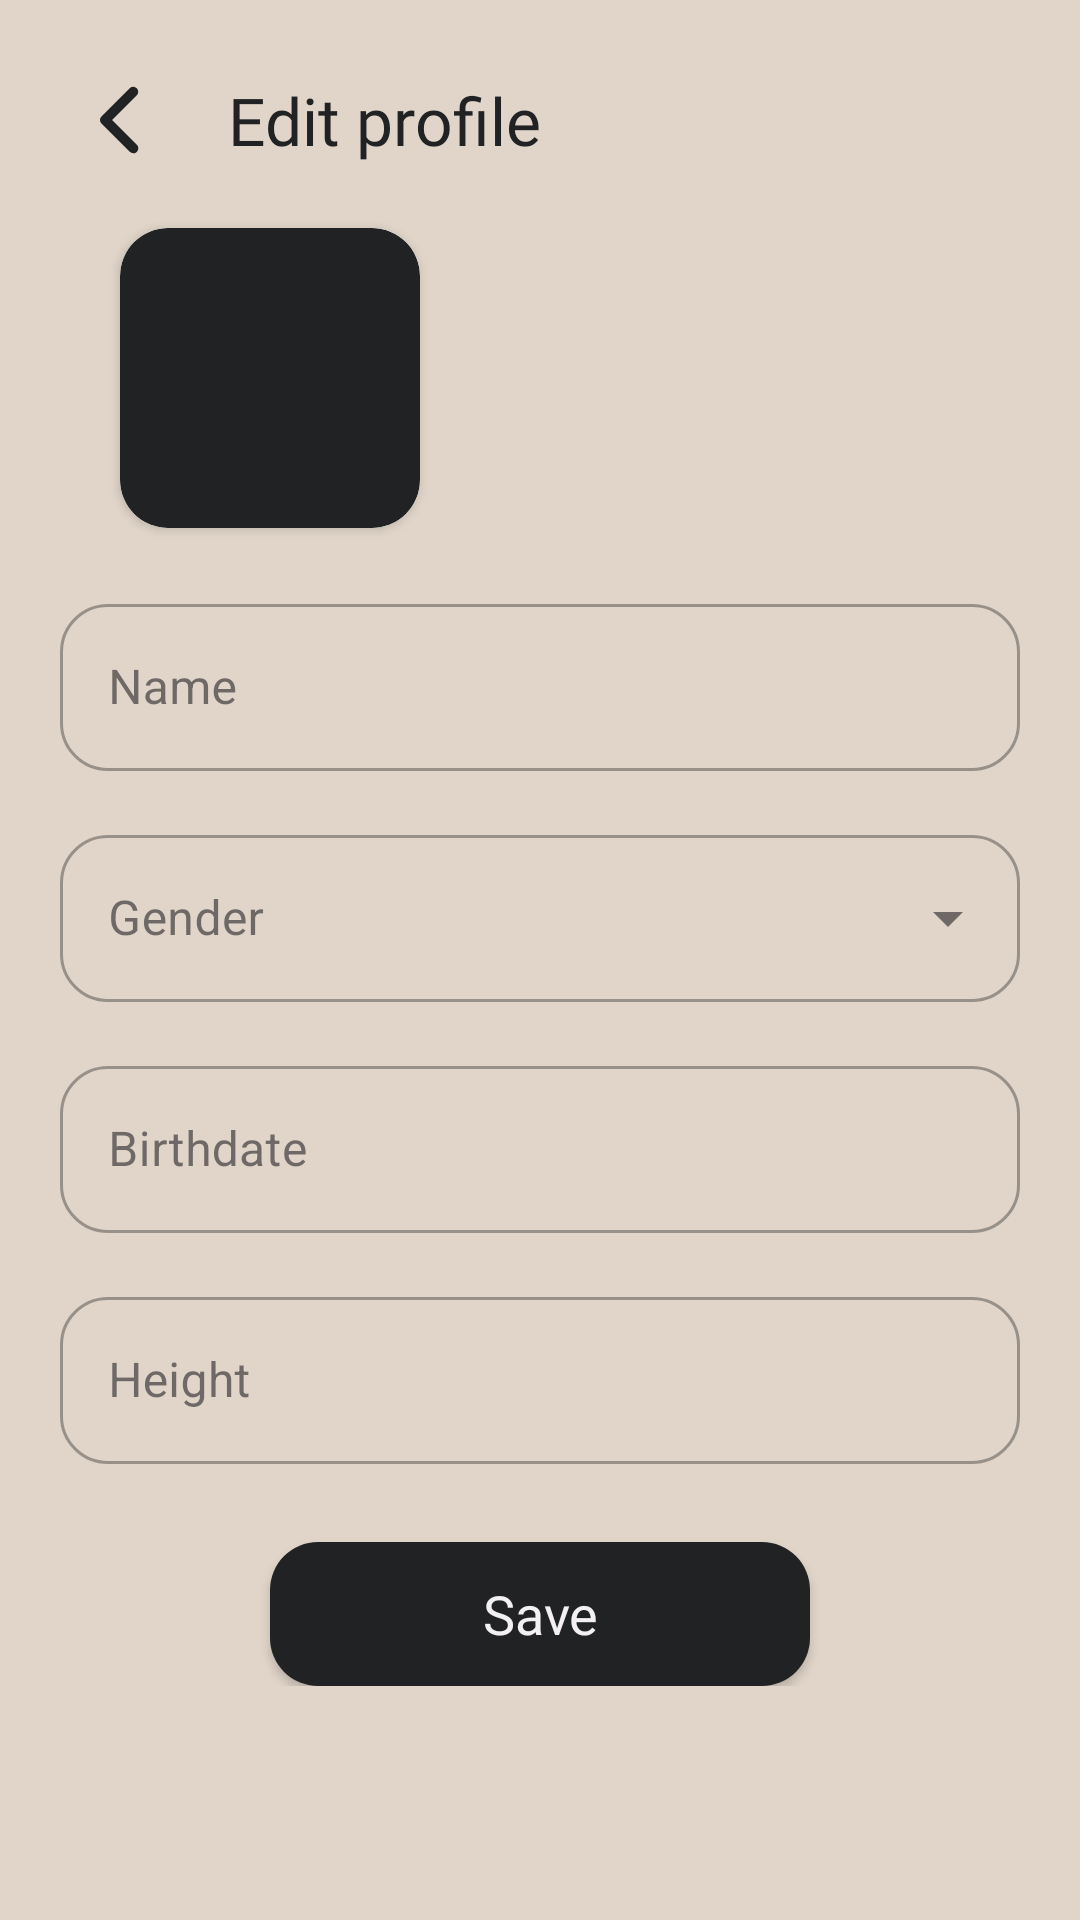

Where to tap for icons on this 1080w x 1920h app screen, as (x,y):
arrow left: (119,120)
